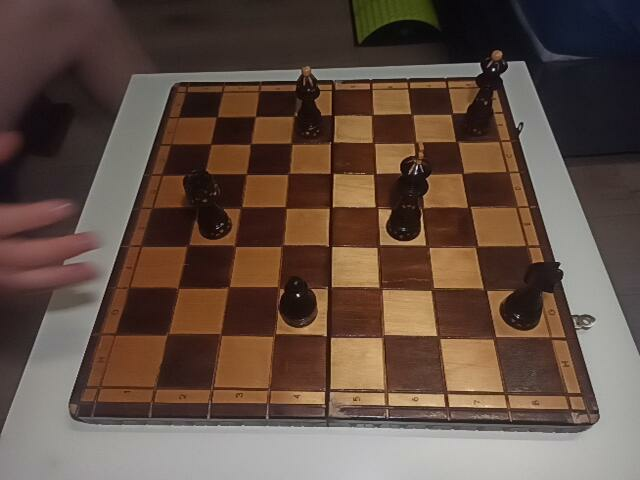B-Bishop: (295, 66, 324, 139)
B-King: (387, 142, 431, 240)
B-Knight: (501, 261, 562, 329)
B-Pawn: (280, 277, 318, 327)
B-Queen: (463, 50, 508, 136)
B-Rook: (181, 169, 232, 239)
